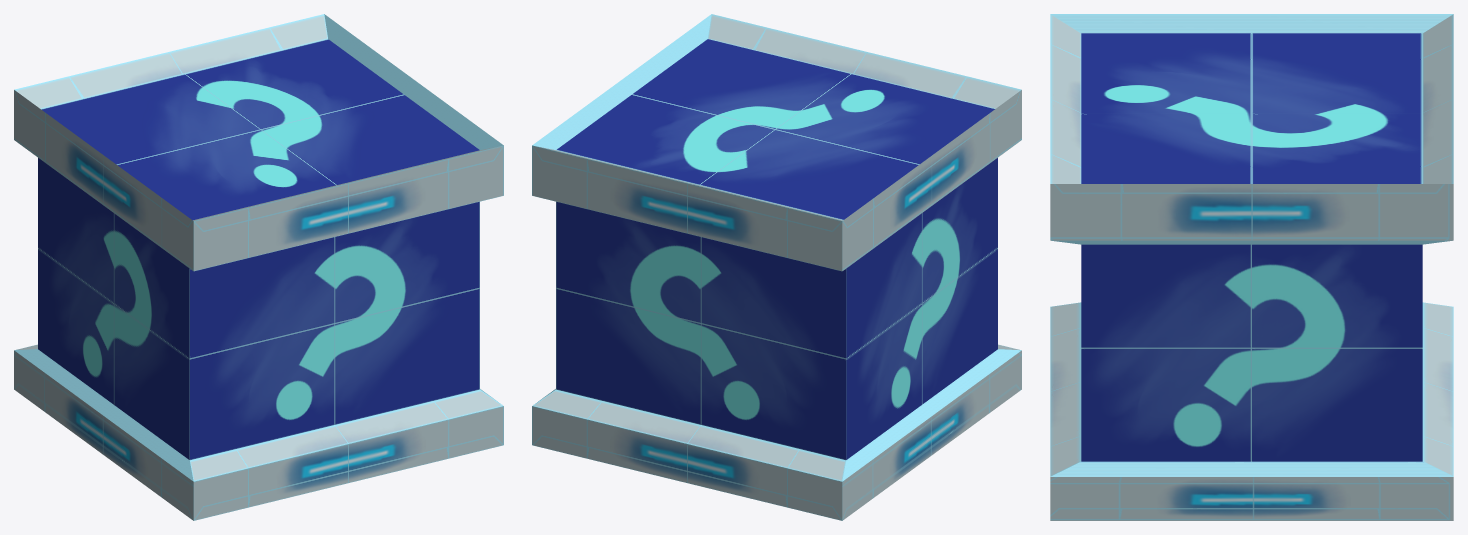
The model's file is itemBox.fbx.
3 views of the same model, side by side, from view 1: azimuth 30°, elevation 25°; view 2: azimuth 150°, elevation 25°; view 3: azimuth 270°, elevation 25° (orthographic). The views are drawn at different scales.
Parts seen in each view (by area): view 1: Cube; view 2: Cube; view 3: Cube.
Boxes of the visible parts, left/top/right/bottom form: Cube: left=14, top=14, right=503, bottom=520; Cube: left=532, top=14, right=1021, bottom=520; Cube: left=1050, top=14, right=1453, bottom=520.
Size of the model in its own units: 236 by 218 by 236.
